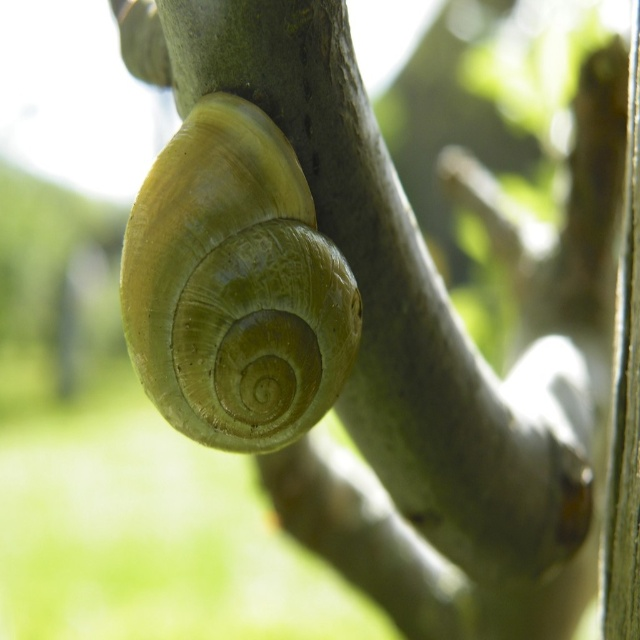Snail: (117, 90, 364, 459)
